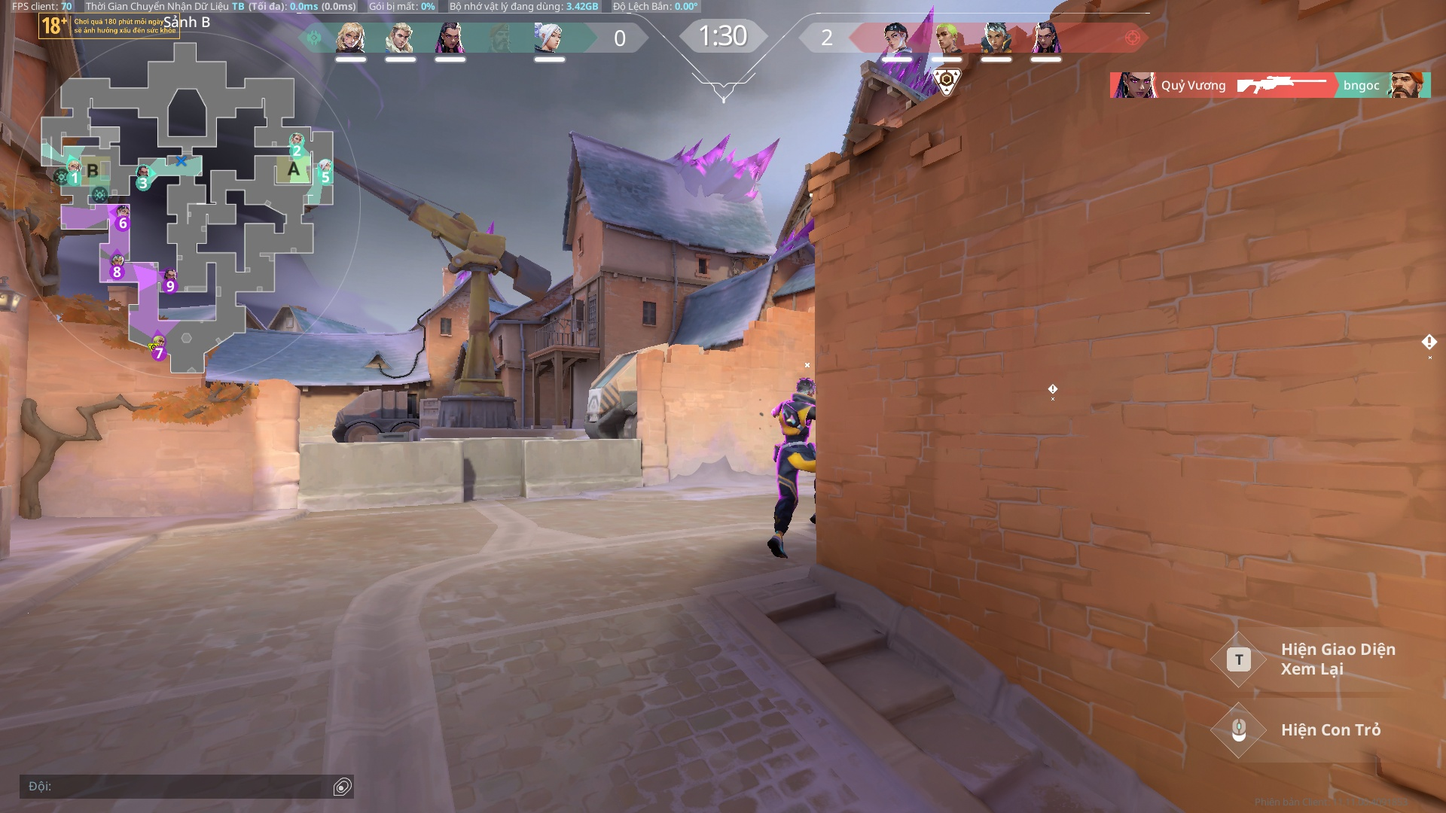body: (776, 397, 817, 440)
head: (794, 376, 817, 397)
